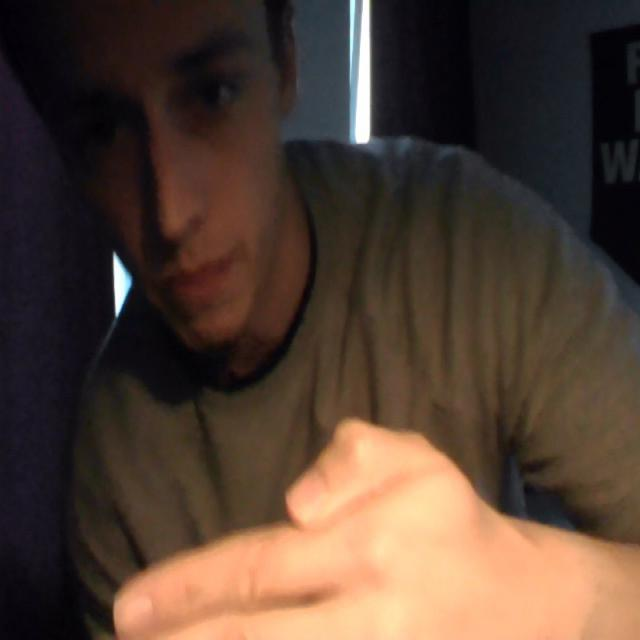left: (102, 412, 514, 640)
